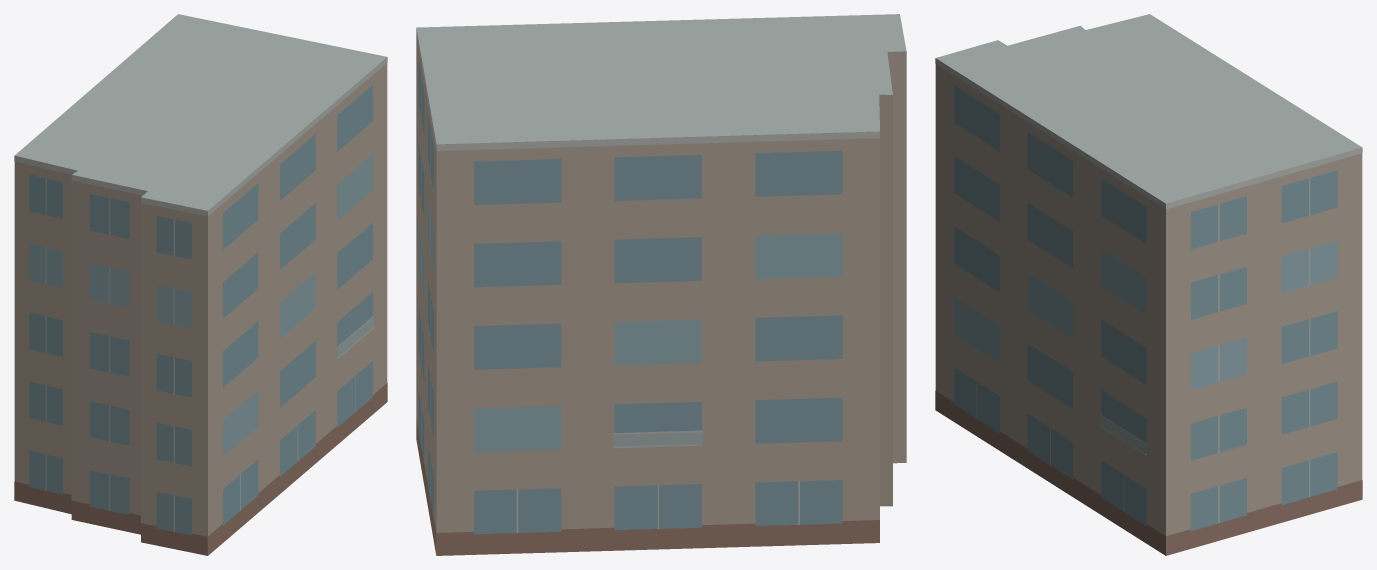
The model's file is survey-upis-32918723.glb.
3 renders of one model, left to right at view 1: azimuth 30°, elevation 25°; view 2: azimuth 150°, elevation 25°; view 3: azimuth 270°, elevation 25°, orthographic. The views are drawn at different scales.
Visible parts, largest first — view 1: survey-upis-32918723.tmp; view 2: survey-upis-32918723.tmp; view 3: survey-upis-32918723.tmp.
Part boxes in pixels (box(x1,y1,x2,y2)): survey-upis-32918723.tmp: box(14, 14, 387, 555); survey-upis-32918723.tmp: box(416, 14, 906, 555); survey-upis-32918723.tmp: box(935, 14, 1362, 555).
Bounding box in the file's own units: 17.28 × 14.95 × 16.44.
